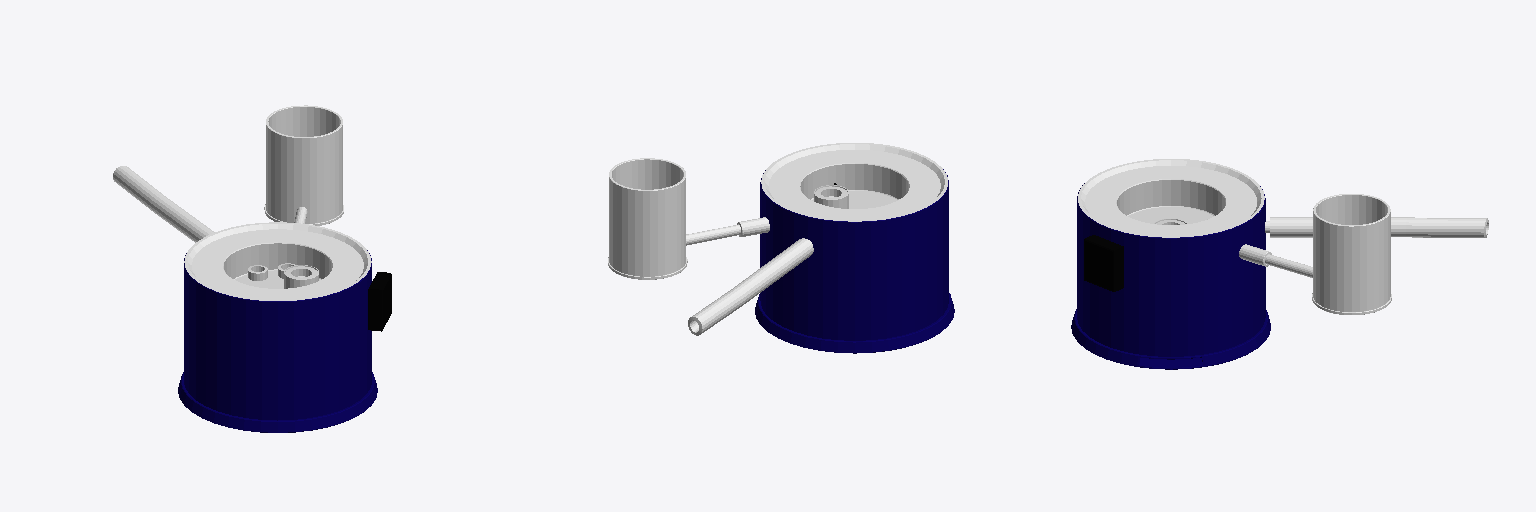
3 renders of one model, left to right at view 1: azimuth 30°, elevation 25°; view 2: azimuth 150°, elevation 25°; view 3: azimuth 270°, elevation 25°, orthographic.
Parts seen in each view (by area): view 1: Temp14:Mesh; view 2: Temp14:Mesh; view 3: Temp14:Mesh.
Boxes of the visible parts, x1,y1,x2,y2 form: Temp14:Mesh: [113, 105, 391, 432]; Temp14:Mesh: [608, 143, 954, 353]; Temp14:Mesh: [1071, 159, 1488, 369].
Bounding box in the file's own units: 15.66 × 10.96 × 23.77.
1 materials, 1 textured.